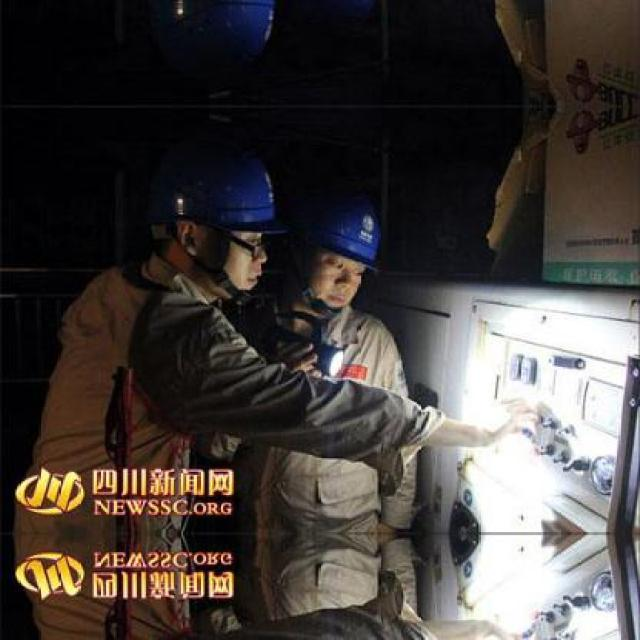helmet: (152, 132, 288, 292), (294, 184, 389, 311), (151, 0, 289, 82), (294, 0, 391, 29)
